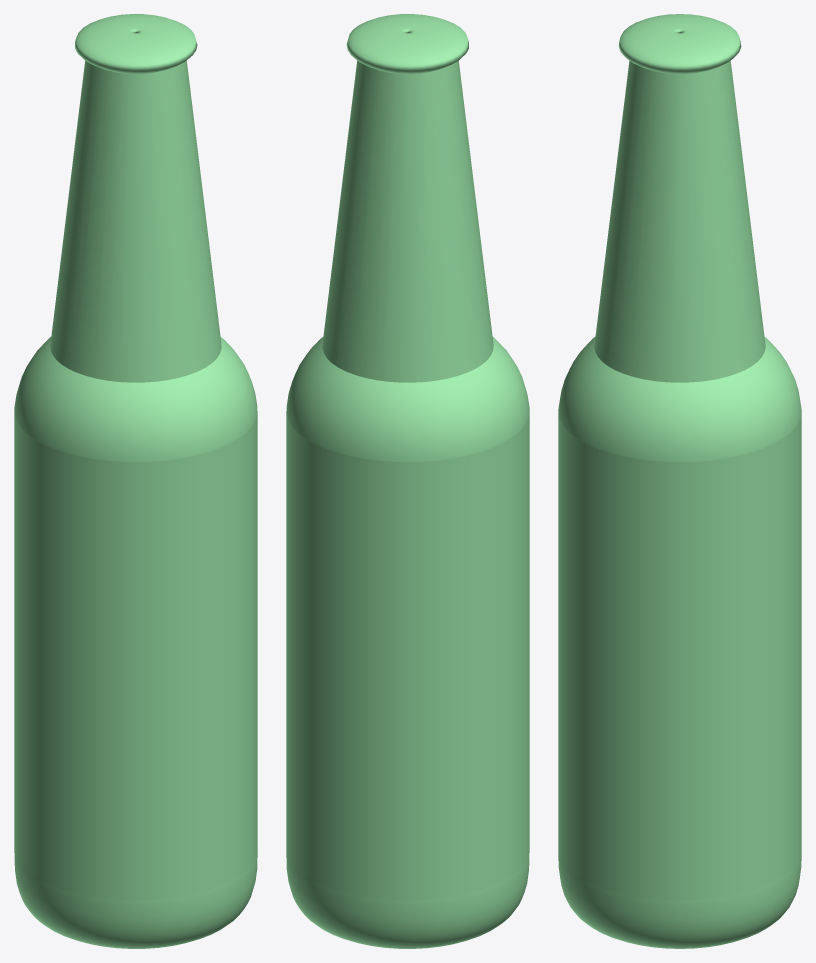
Rendered from Bottle.fbx.
3 renders of one model, left to right at view 1: azimuth 30°, elevation 25°; view 2: azimuth 150°, elevation 25°; view 3: azimuth 270°, elevation 25°, orthographic.
Parts seen in each view (by area): view 1: RealBottle; view 2: RealBottle; view 3: RealBottle.
Part boxes in pixels (x1,y1,x2,y2): RealBottle: [14, 14, 257, 948]; RealBottle: [286, 14, 529, 948]; RealBottle: [558, 14, 801, 948].
Bounding box in the file's own units: 3.14 × 12.56 × 3.14.
